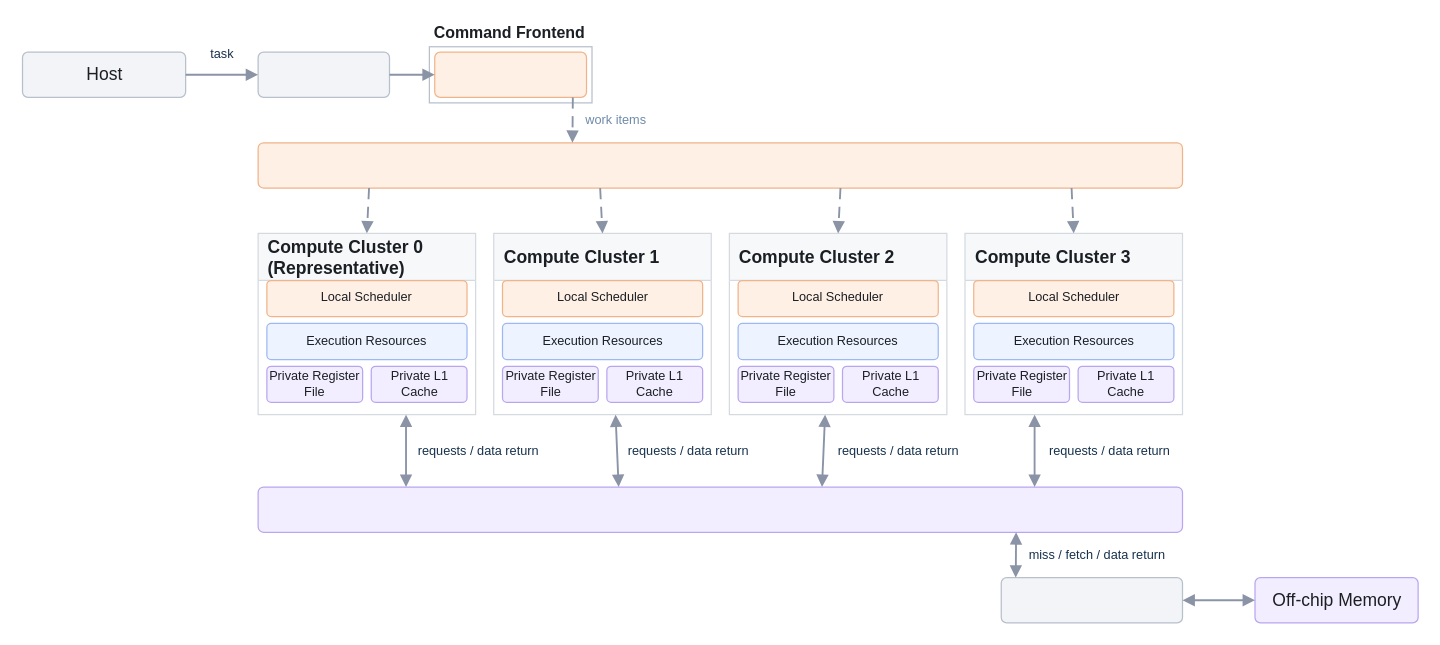
The diagram is 1440 pixels wide and 645 high, and some of its shapes have lost their labels. Each missing label, with the centre of its shape:
"Command Processor" goes at pixel 510 74.
"Host Interface" goes at pixel 323 74.
"Memory Interface" goes at pixel 1091 599.
"Shared L2 Cache" goes at pixel 719 509.
"Thread Scheduler / Work Distributor" goes at pixel 719 165.
